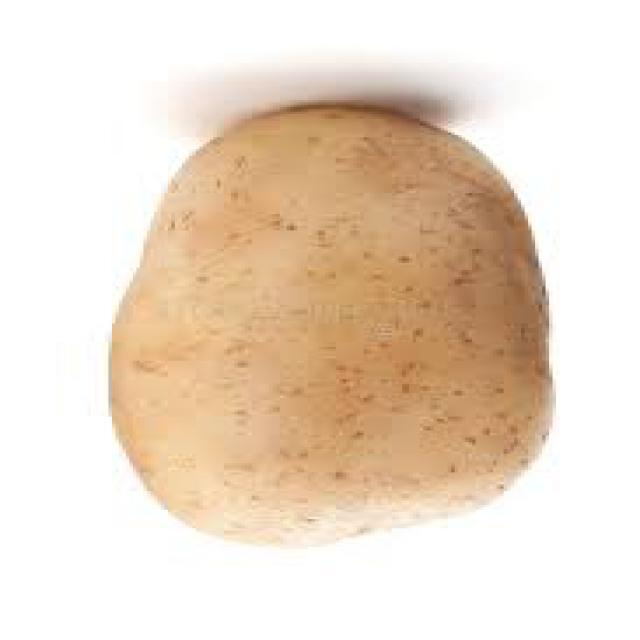potato: (110, 103, 555, 549)
